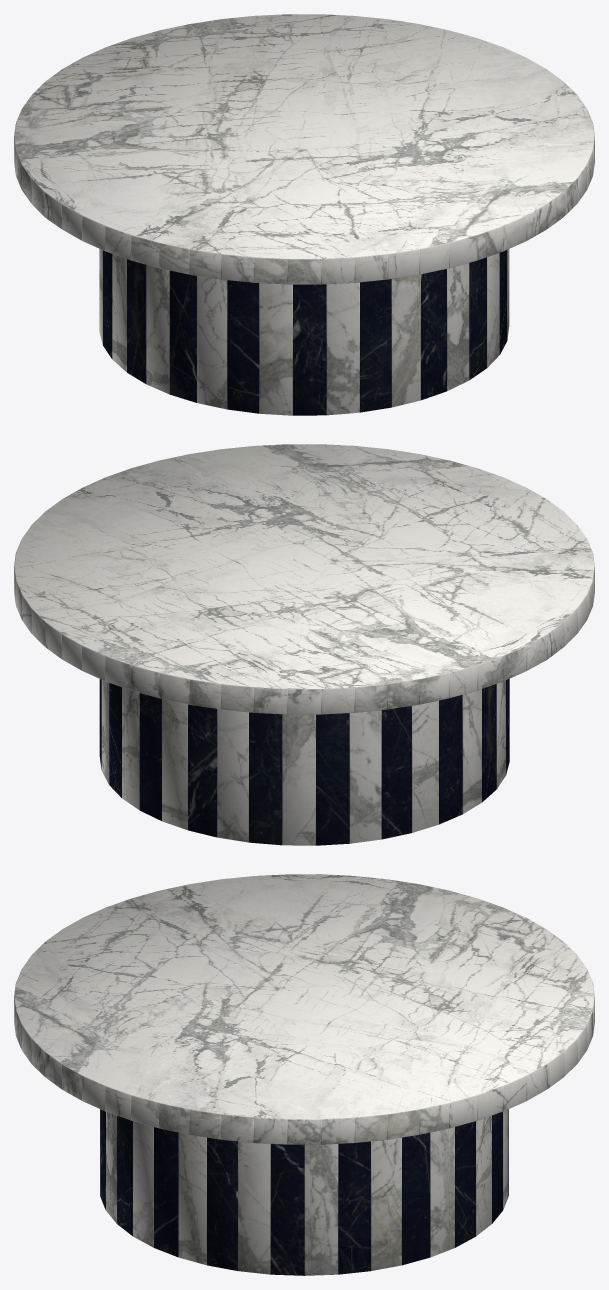
Rendered from TavoloMarmo.glb.
The picture shows the model from 3 angles, top to bottom: view 1: azimuth 30°, elevation 25°; view 2: azimuth 150°, elevation 25°; view 3: azimuth 270°, elevation 25°; orthographic projection.
Visible parts, largest first — view 1: root; view 2: root; view 3: root.
Part boxes in pixels (x1,y1,x2,y2): root: (14,14,594,415); root: (14,444,594,845); root: (14,874,594,1275).
Size of the model in its own units: 1.05 by 0.383 by 1.05.
2 materials, 2 textured.
